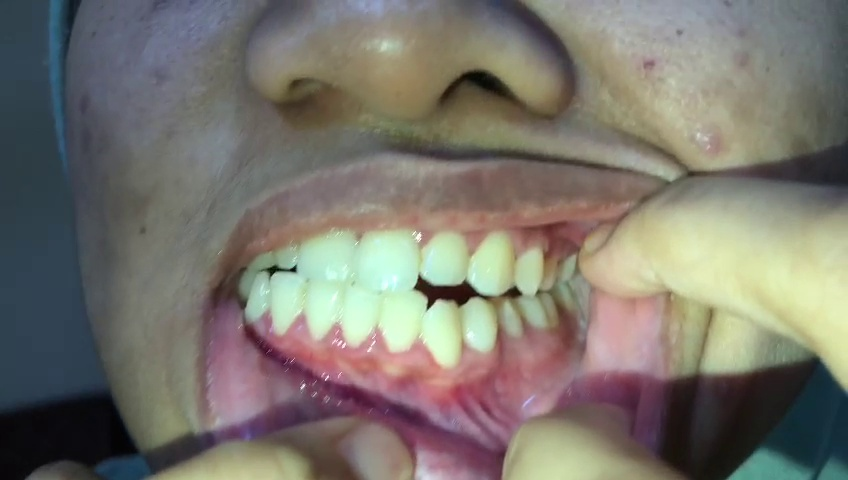1st Molar: (518, 292, 547, 334), (561, 245, 581, 288)
1st Premolar: (461, 299, 498, 356), (514, 243, 544, 300)
2nd Molar: (540, 293, 558, 330)
2nd Premolar: (496, 297, 522, 342), (541, 245, 558, 293)
3rd Molar: (553, 285, 576, 317)
Canine: (468, 228, 517, 297), (424, 298, 464, 368), (244, 271, 272, 330)
Central Incisor: (355, 225, 419, 292), (298, 222, 356, 284), (301, 279, 340, 342), (341, 285, 378, 348)
Lateral Incisor: (418, 227, 469, 288), (379, 291, 426, 357), (273, 271, 301, 341)
